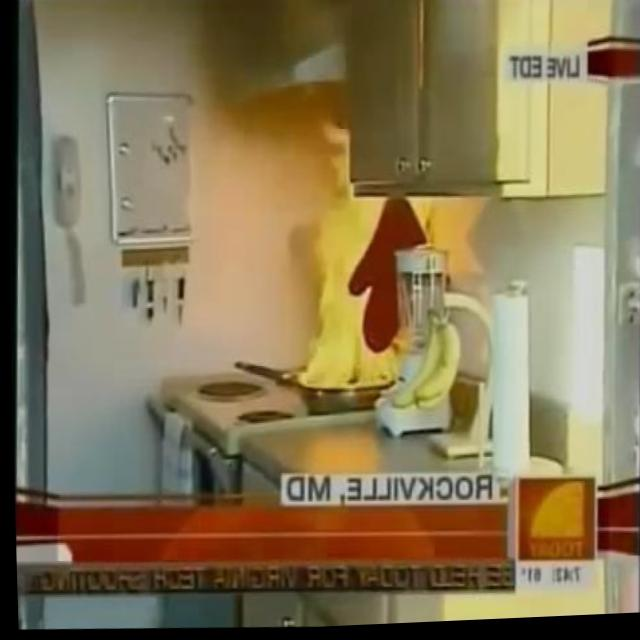fire: (285, 190, 434, 393), (292, 118, 347, 200)
